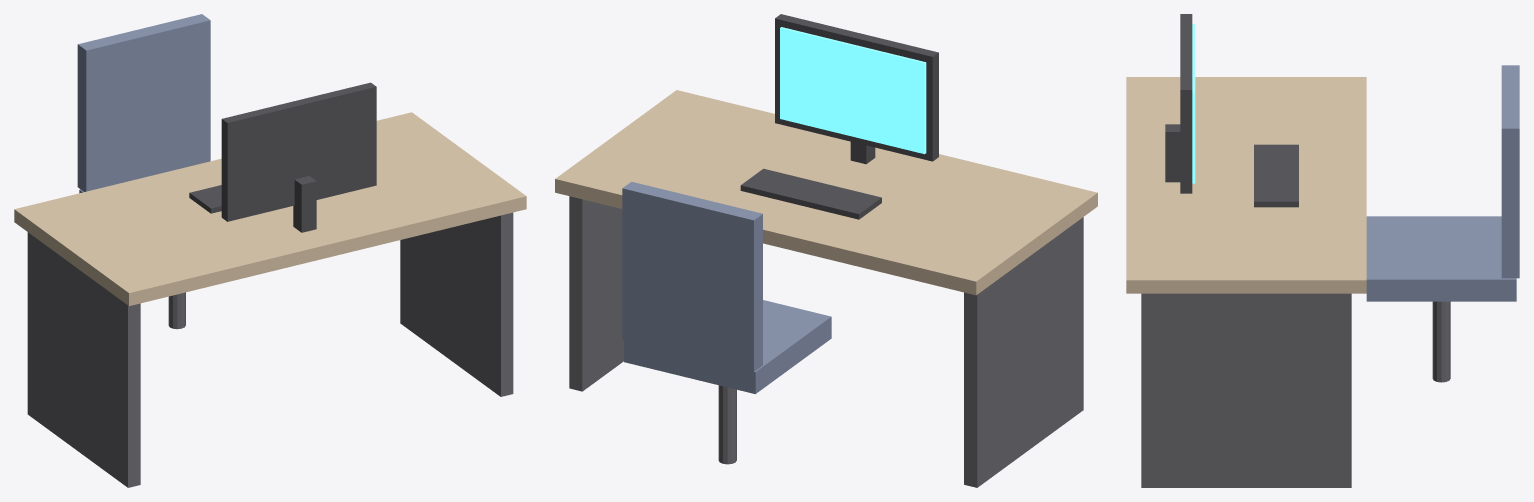
The model's file is OfficeDesk.fbx.
3 views of the same model, side by side, from view 1: azimuth 30°, elevation 25°; view 2: azimuth 150°, elevation 25°; view 3: azimuth 270°, elevation 25° (orthographic). The views are drawn at different scales.
Visible parts, largest first — view 1: OfficeDesk_Mesh; view 2: OfficeDesk_Mesh; view 3: OfficeDesk_Mesh.
Part boxes in pixels (x1=…): OfficeDesk_Mesh: x1=14, y1=14, x2=526, y2=487; OfficeDesk_Mesh: x1=555, y1=14, x2=1097, y2=487; OfficeDesk_Mesh: x1=1126, y1=14, x2=1519, y2=487.
Bounding box in the file's own units: 1.6 × 1.31 × 1.24.
